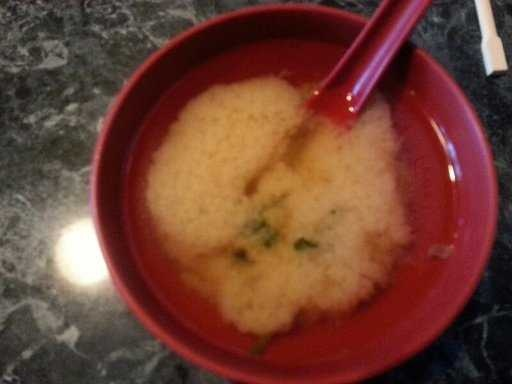soup: (96, 39, 490, 354)
